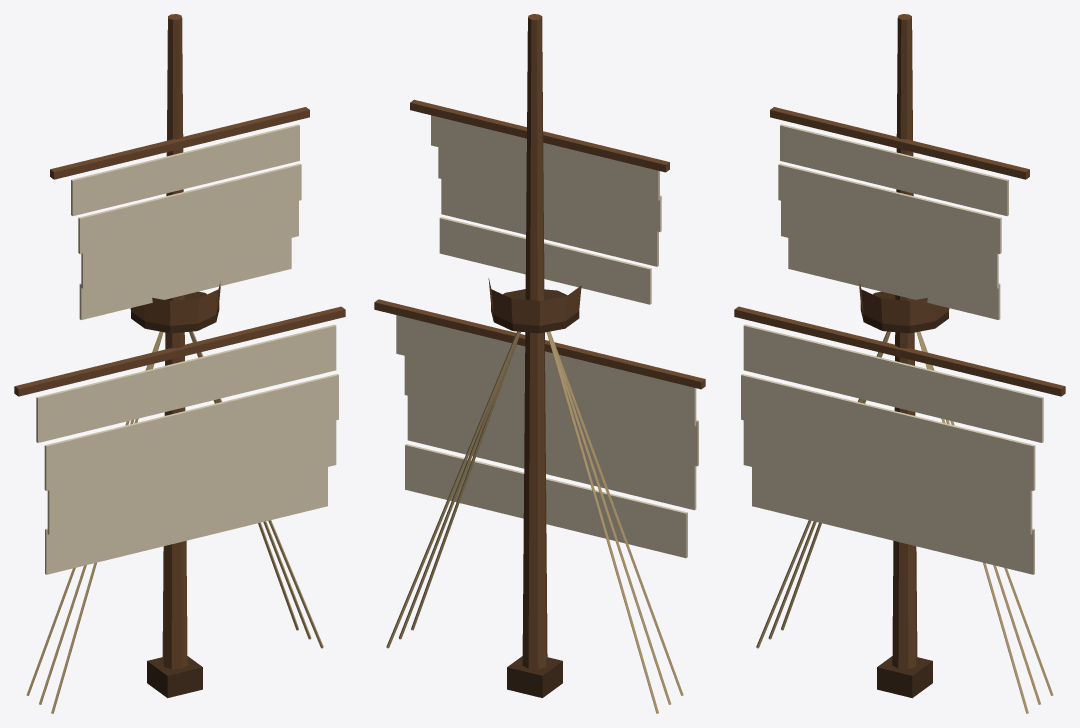
Rendered from nav-mastro.gltf.
The picture shows the model from 3 angles, left to right: view 1: azimuth 30°, elevation 25°; view 2: azimuth 150°, elevation 25°; view 3: azimuth 330°, elevation 25°; orthographic projection.
Parts seen in each view (by area): view 1: nav-mastro; view 2: nav-mastro; view 3: nav-mastro.
Part boxes in pixels (x1,y1,x2,y2): nav-mastro: (14,14,345,713); nav-mastro: (374,14,705,713); nav-mastro: (734,14,1065,713).
Bounding box in the file's own units: 4.6 × 9 × 1.16.
